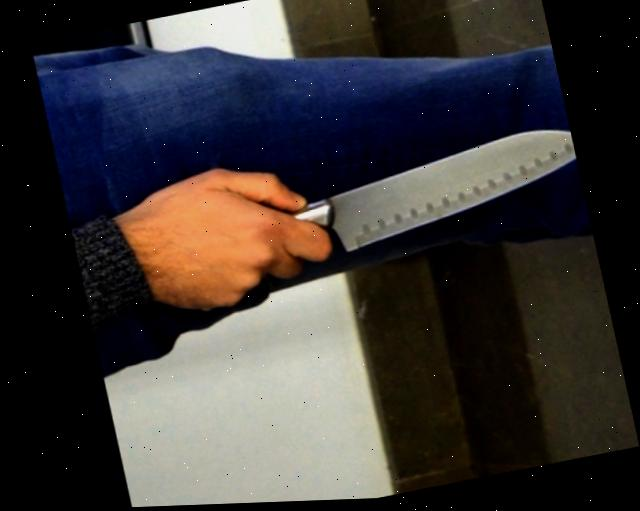long knife: (211, 113, 597, 323)
